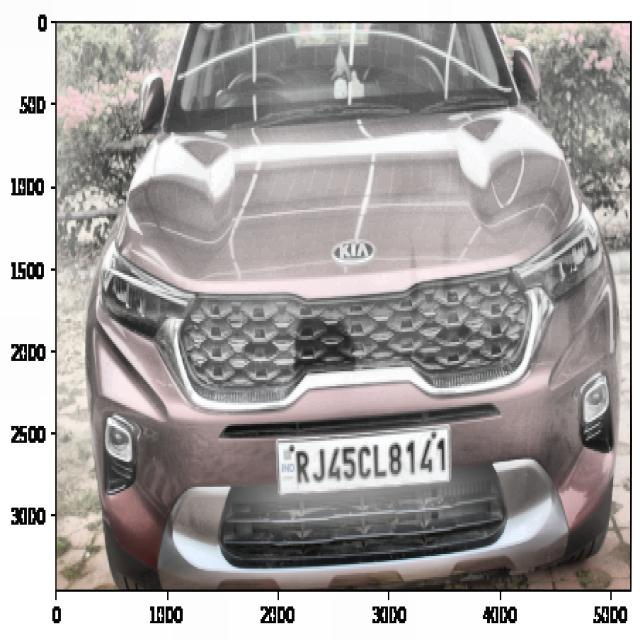license_plate: (283, 424, 450, 495)
